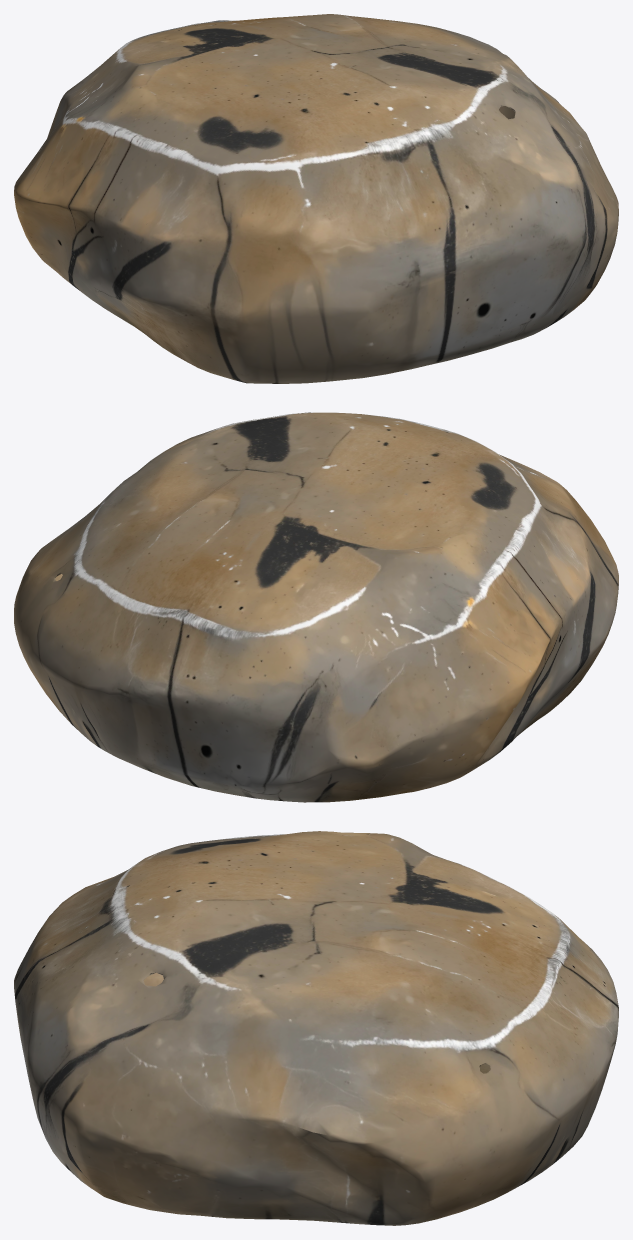
The model's file is beach_rock.glb.
The picture shows the model from 3 angles, top to bottom: view 1: azimuth 30°, elevation 25°; view 2: azimuth 150°, elevation 25°; view 3: azimuth 270°, elevation 25°; orthographic projection. The views are drawn at different scales.
Visible parts, largest first — view 1: world; view 2: world; view 3: world.
Boxes of the visible parts, <box> form: world: <box>14,14,618,383</box>; world: <box>14,412,618,802</box>; world: <box>14,831,618,1225</box>.
Size of the model in its own units: 1 by 0.4232 by 1.
1 material, 1 textured.
